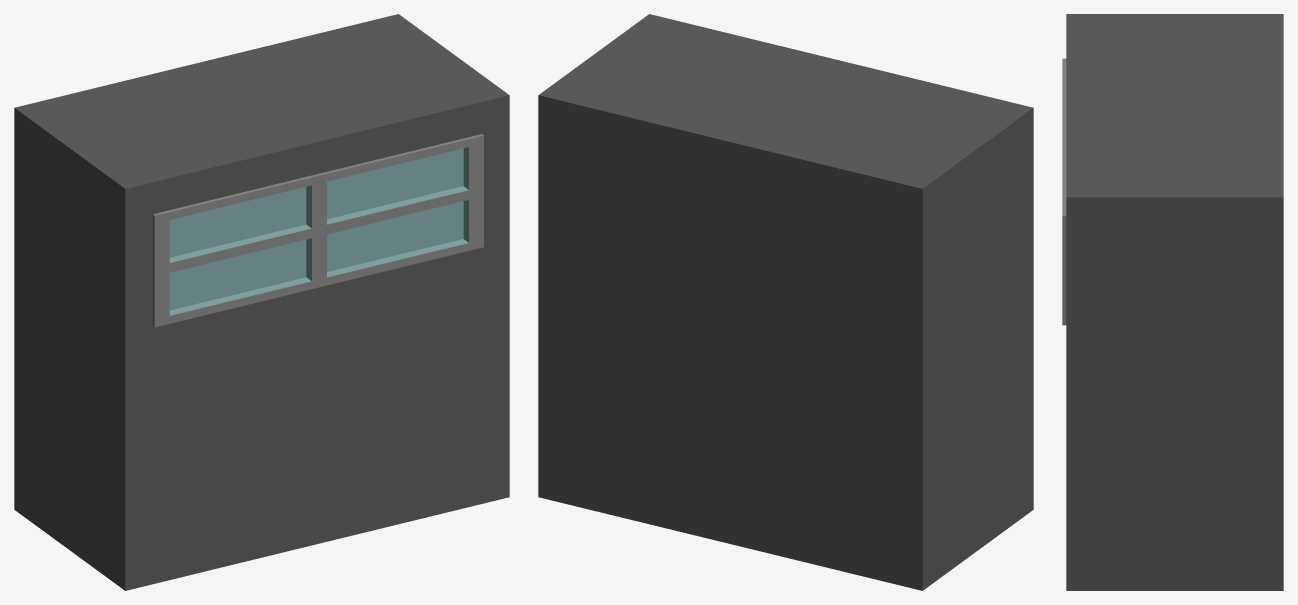
Rendered from wall3.fbx.
3 views of the same model, side by side, from view 1: azimuth 30°, elevation 25°; view 2: azimuth 150°, elevation 25°; view 3: azimuth 270°, elevation 25° (orthographic). The views are drawn at different scales.
Visible parts, largest first — view 1: pCube99, pCube100; view 2: pCube99; view 3: pCube99, pCube100.
Part boxes in pixels (bbox=[...]): pCube99: bbox=[14, 14, 509, 590]; pCube100: bbox=[152, 134, 483, 327]; pCube99: bbox=[538, 14, 1033, 590]; pCube99: bbox=[1066, 14, 1283, 590]; pCube100: bbox=[1062, 58, 1066, 325].
Size of the model in its own units: 2 by 2 by 1.02.
Materials: 1 (1 with a texture image).
